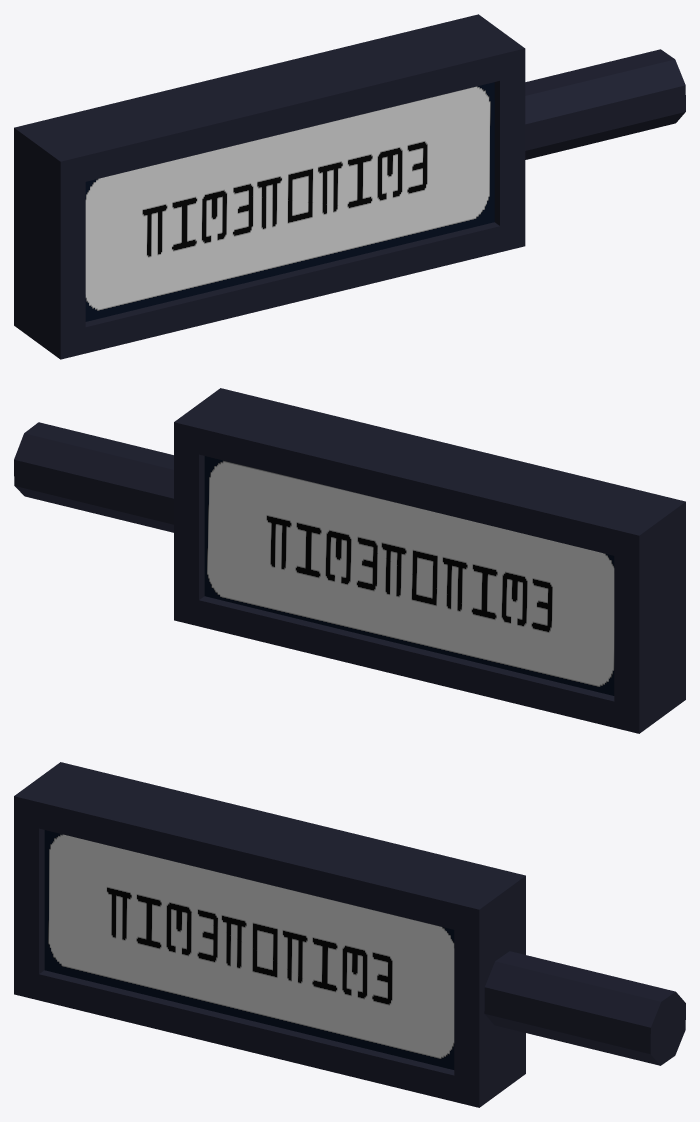
Rendered from Sign_Street01.fbx.
3 views of the same model, one above another, from view 1: azimuth 30°, elevation 25°; view 2: azimuth 150°, elevation 25°; view 3: azimuth 330°, elevation 25° (orthographic).
Parts seen in each view (by area): view 1: Cube.460; view 2: Cube.460; view 3: Cube.460.
Boxes of the visible parts, <box> form: Cube.460: <box>14,14,685,359</box>; Cube.460: <box>14,388,685,733</box>; Cube.460: <box>14,762,685,1107</box>.
Bounding box in the file's own units: 94.34 × 28.29 × 12.07.
